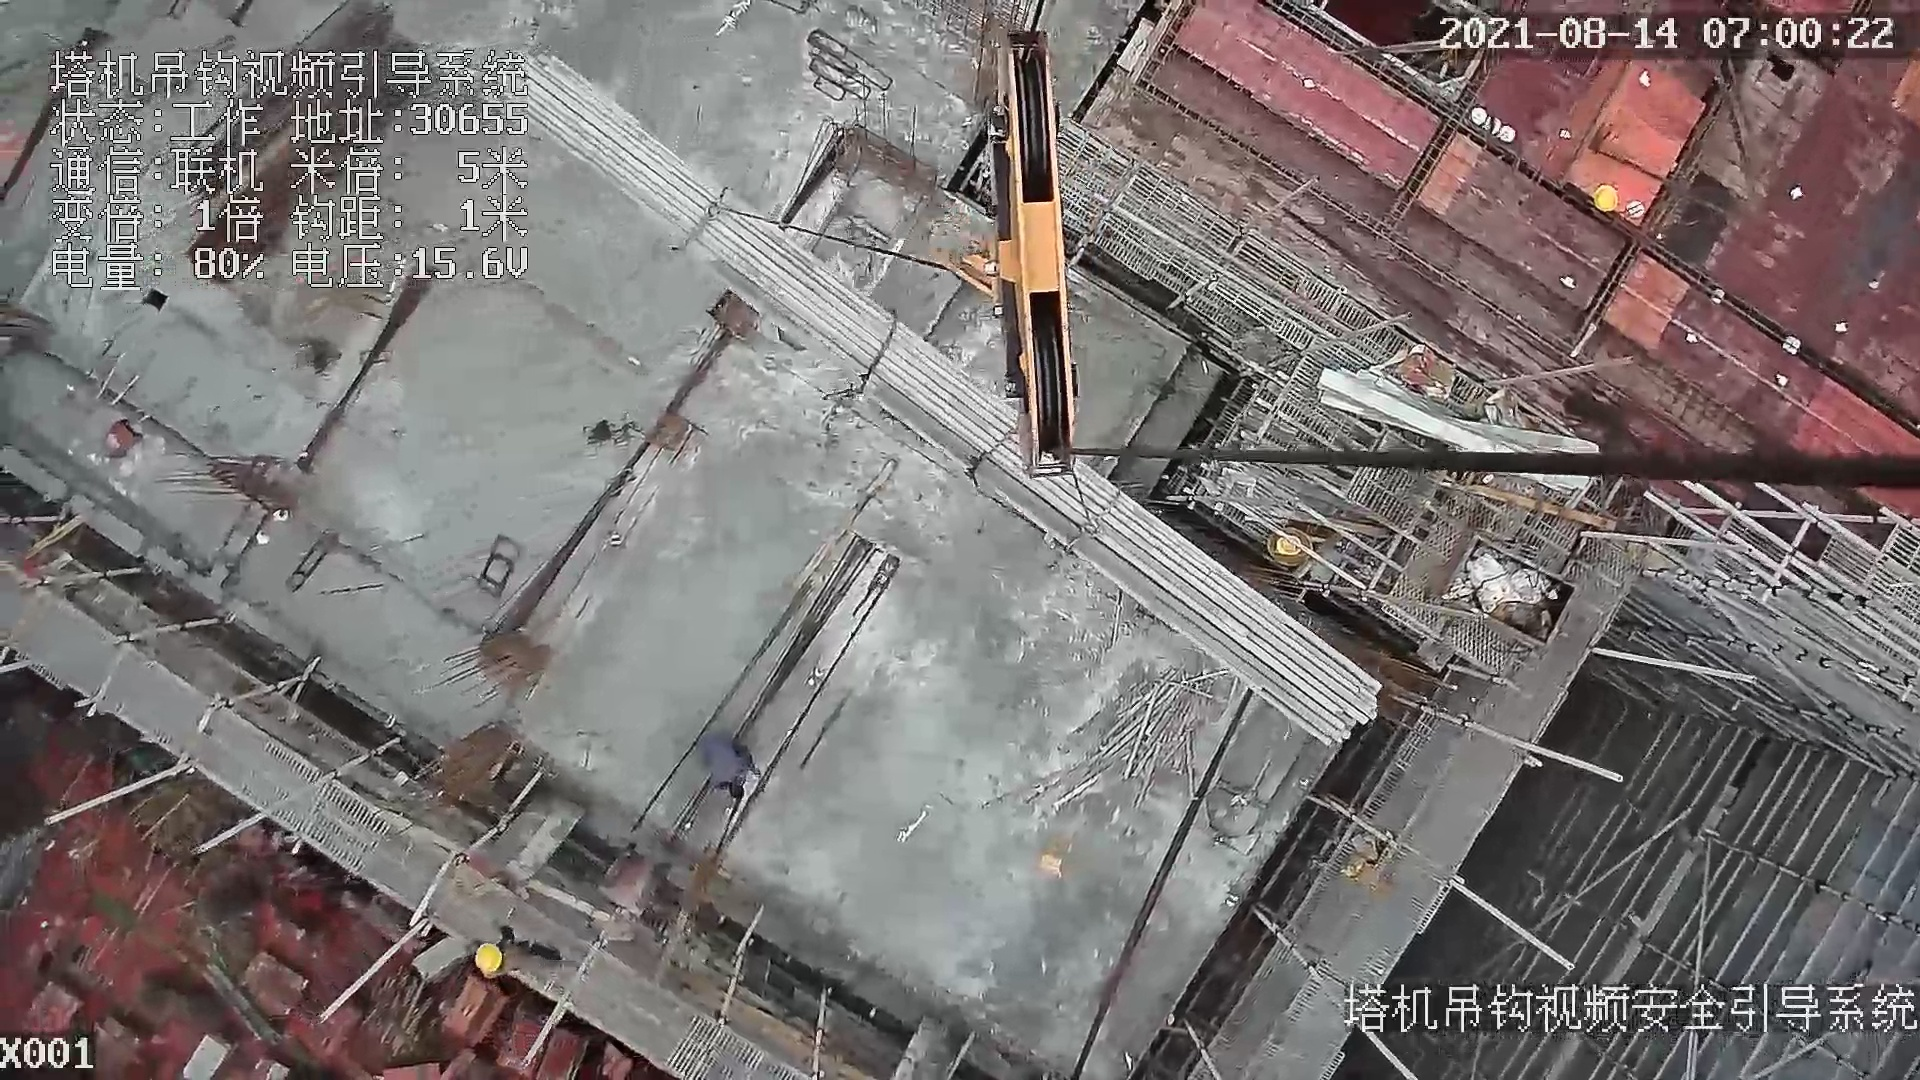helmet: (475, 944, 503, 972), (1594, 184, 1618, 212), (1276, 537, 1303, 556)
hook: (945, 36, 1105, 485)
person: (696, 732, 769, 808), (463, 928, 567, 978)
rebar: (529, 56, 1383, 749)
